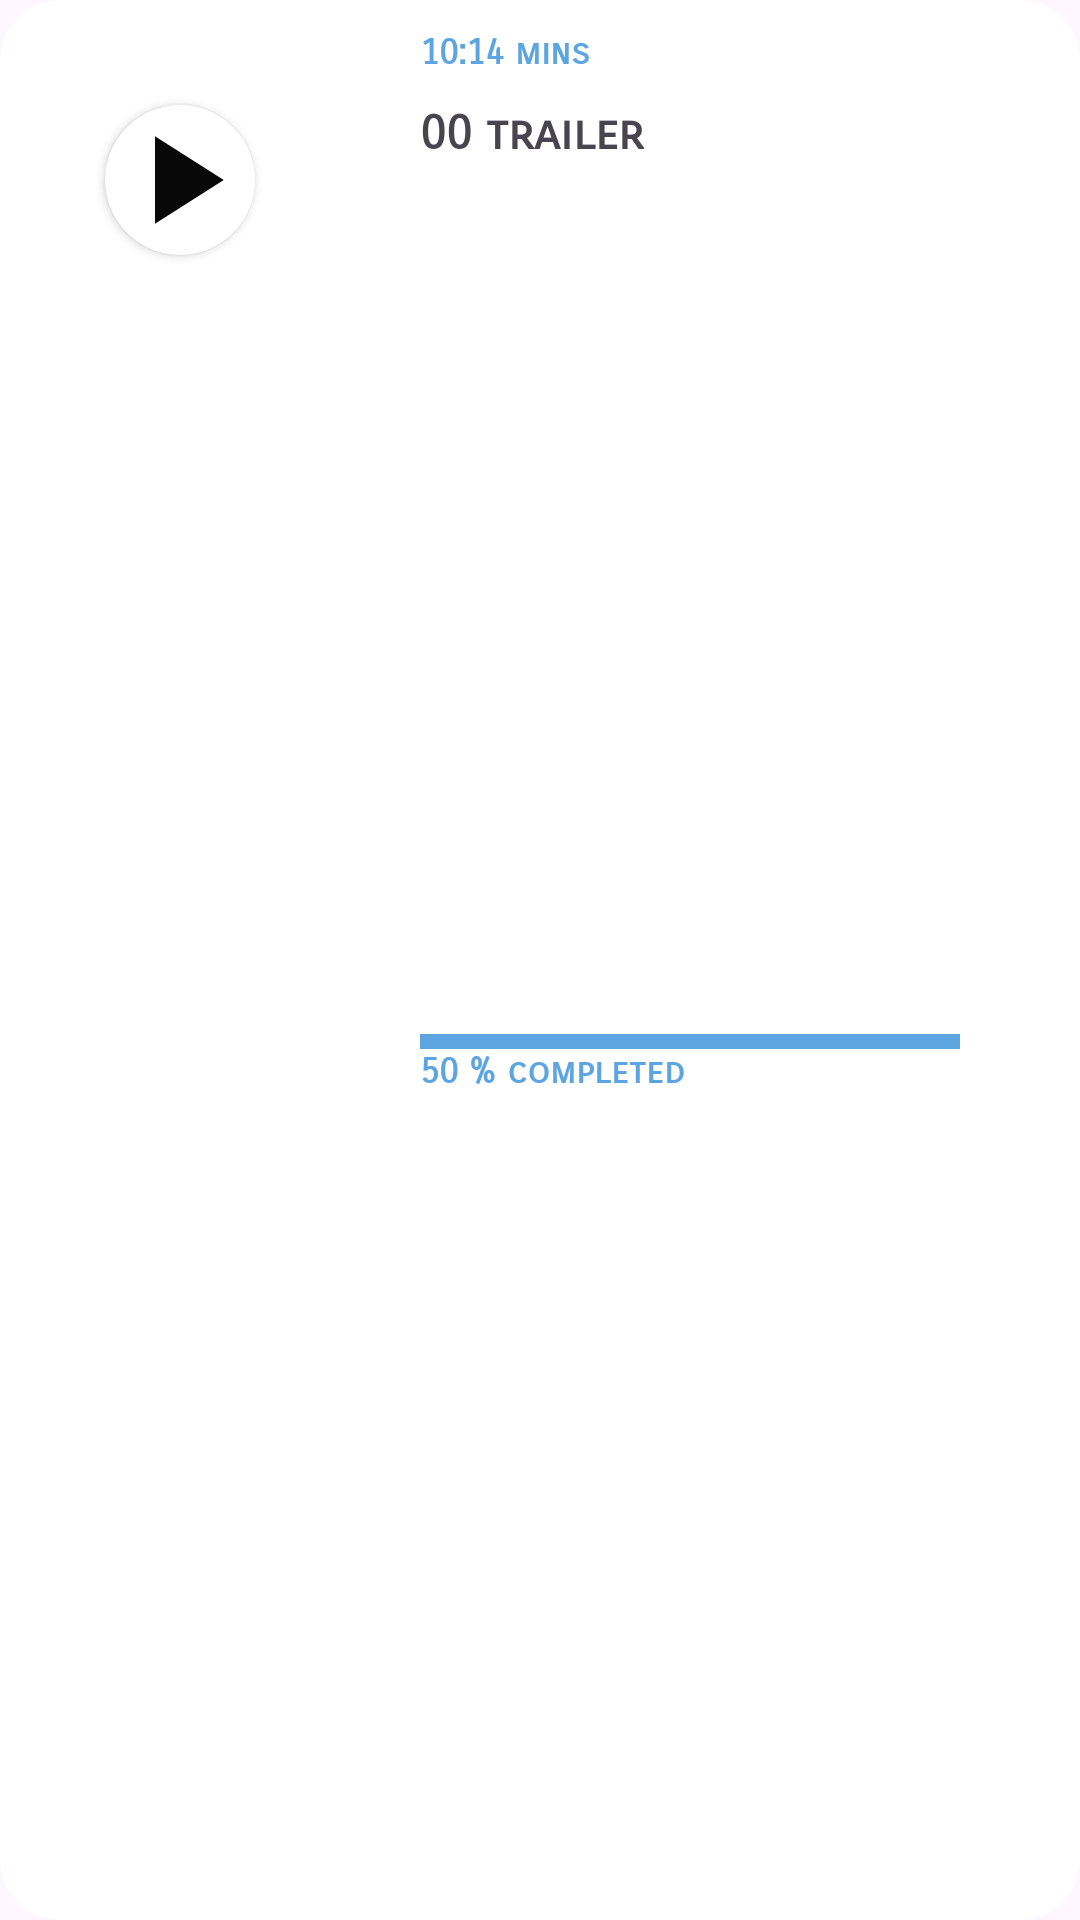

Icon bounding boxes for this 1080px×1920px phone screenshot, format (left=x1, top=y1, right=x2, bottom=y2):
play arrow: (left=105, top=113, right=224, bottom=255)
